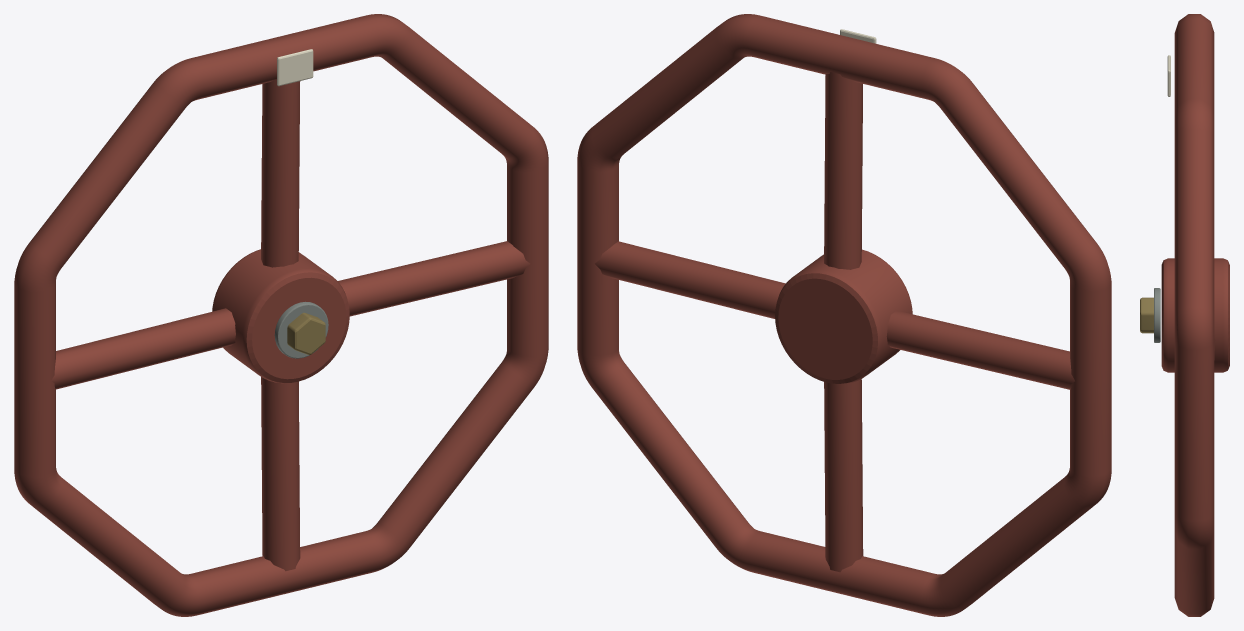
Rendered from VALVE_Wheel.fbx.
3 renders of one model, left to right at view 1: azimuth 30°, elevation 25°; view 2: azimuth 150°, elevation 25°; view 3: azimuth 270°, elevation 25°, orthographic. The views are drawn at different scales.
Visible parts, largest first — view 1: VALVE_Wheel_EXPORT; view 2: VALVE_Wheel_EXPORT; view 3: VALVE_Wheel_EXPORT.
Boxes of the visible parts, box(x1,y1,x2,y2) form: VALVE_Wheel_EXPORT: box(14, 14, 548, 616); VALVE_Wheel_EXPORT: box(577, 14, 1111, 616); VALVE_Wheel_EXPORT: box(1140, 14, 1229, 616).
Bounding box in the file's own units: 0.5142 × 0.5142 × 0.0815.
